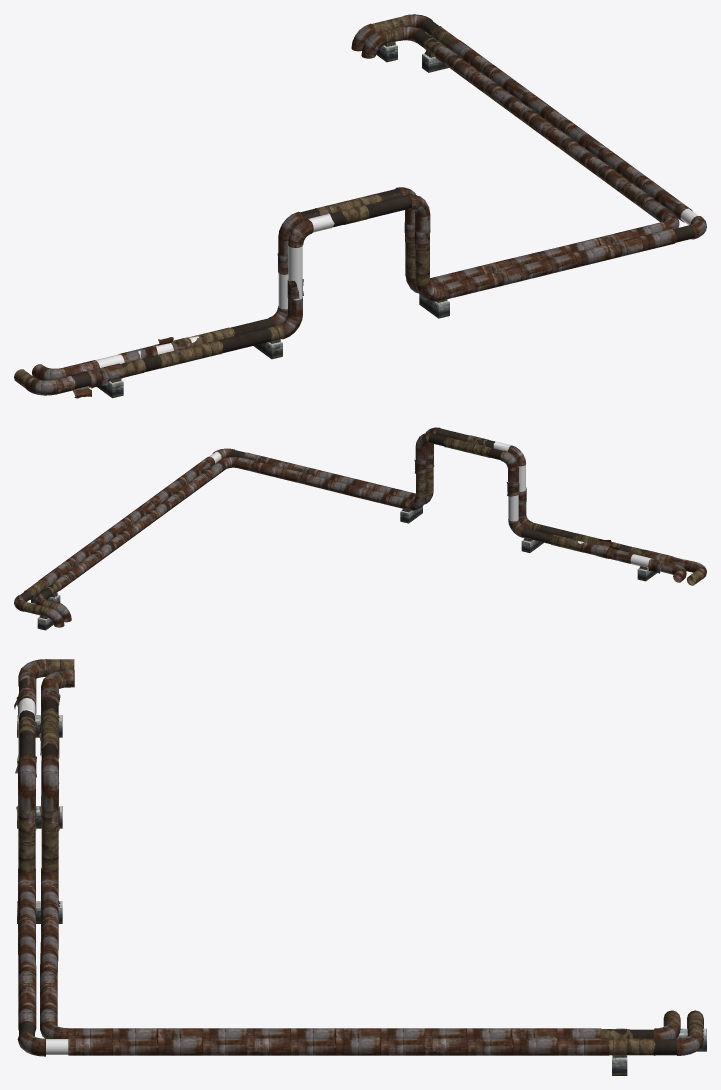
Rendered from truboprovod.FBX.
3 renders of one model, top to bottom at view 1: azimuth 30°, elevation 25°; view 2: azimuth 150°, elevation 25°; view 3: azimuth 270°, elevation 25°, orthographic. The views are drawn at different scales.
Visible parts, largest first — view 1: 90turn09, 10m05, 5m broken001, 90turn06, 90turn04, 2.5m isolation broken04, 5m broken, 5m isolation03, 5m broken.2, truba.05, truba04, 5m isolation; view 2: 90turn09, 10m05, 5m broken001, 90turn04, 90turn06, Object001, 5m isolation03, 5m broken, 2.5m isolation broken.2, 5m broken.2; view 3: 90turn09, 10m05, 90turn06, 5m isolation03, Object002, 5m broken001.
Boxes of the visible parts, x1,y1,x2,y2 form: 90turn09: (406, 46, 679, 301); 10m05: (449, 39, 692, 222); 5m broken001: (32, 337, 190, 380); 90turn06: (395, 187, 430, 250); 90turn04: (277, 211, 313, 274); 2.5m isolation broken04: (156, 325, 284, 368); 5m broken: (53, 363, 124, 398); 5m isolation03: (405, 231, 429, 286); 5m broken.2: (279, 279, 303, 339); truba.05: (218, 328, 271, 353); truba04: (365, 195, 411, 218); 5m isolation: (288, 246, 302, 300); 90turn09: (55, 452, 433, 590); 10m05: (38, 456, 214, 586); 5m broken001: (582, 539, 686, 582); 90turn04: (500, 445, 525, 496); 90turn06: (414, 427, 439, 473); Object001: (443, 437, 491, 457); 5m isolation03: (416, 460, 433, 499); 5m broken: (645, 550, 696, 572); 2.5m isolation broken.2: (549, 534, 584, 552); 5m broken.2: (518, 487, 532, 528); 90turn09: (18, 868, 601, 1038); 10m05: (68, 1038, 609, 1055); 90turn06: (16, 754, 59, 833); 5m isolation03: (18, 808, 58, 872); Object002: (609, 1038, 655, 1055); 5m broken001: (39, 669, 74, 755).
Bounding box in the file's own units: 51.15 × 9.15 × 38.69.
